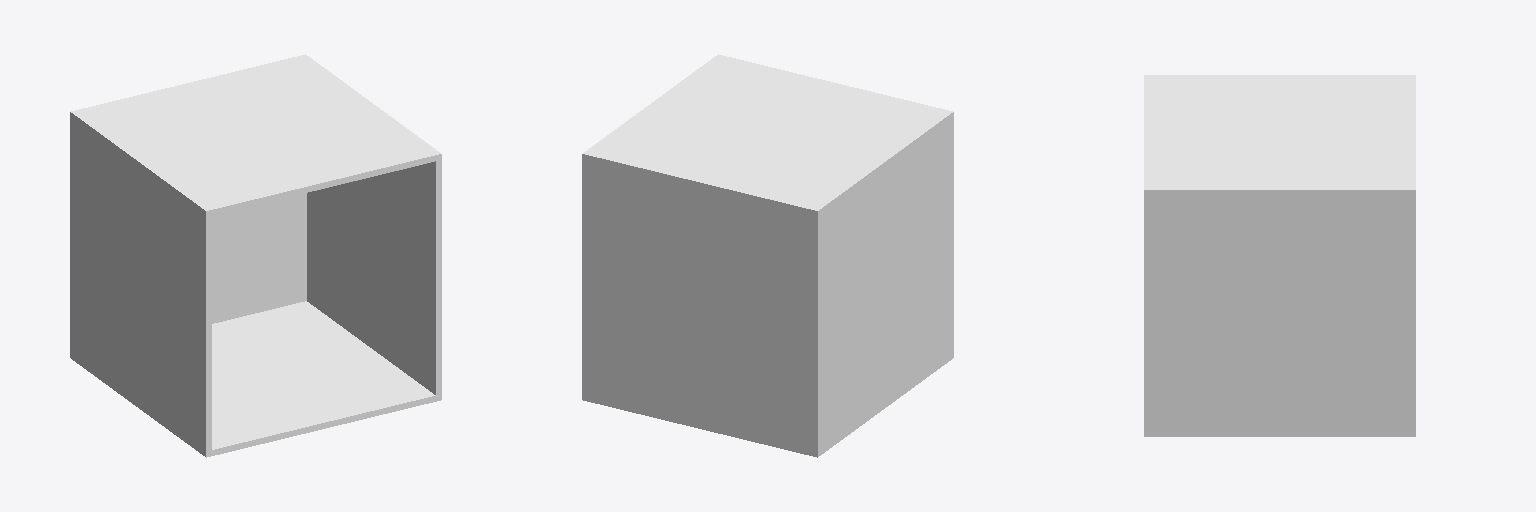
File: testbg.obj
3 views of the same model, side by side, from view 1: azimuth 30°, elevation 25°; view 2: azimuth 150°, elevation 25°; view 3: azimuth 270°, elevation 25° (orthographic).
Visible parts, largest first — view 1: object 1; view 2: object 1; view 3: object 1.
Boxes of the visible parts, box(x1,y1,x2,y2) form: object 1: box(70, 54, 441, 457); object 1: box(582, 54, 953, 457); object 1: box(1144, 75, 1415, 436).
Bounding box in the file's own units: 4 × 4 × 4.